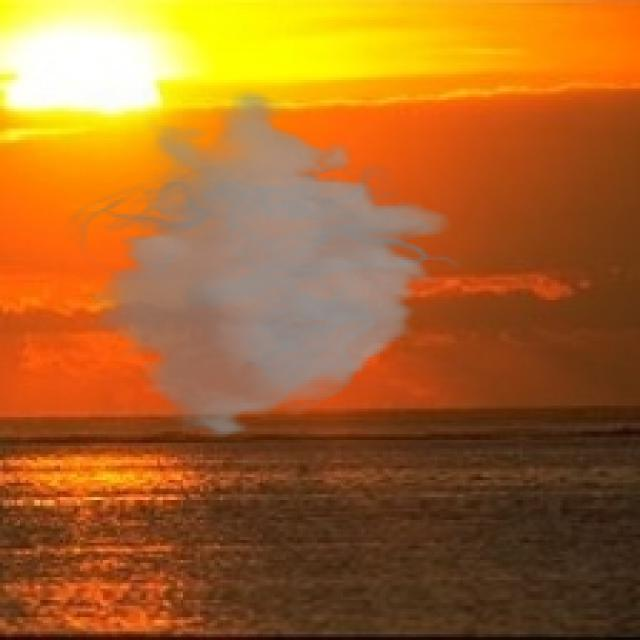smoke: (60, 89, 466, 440)
